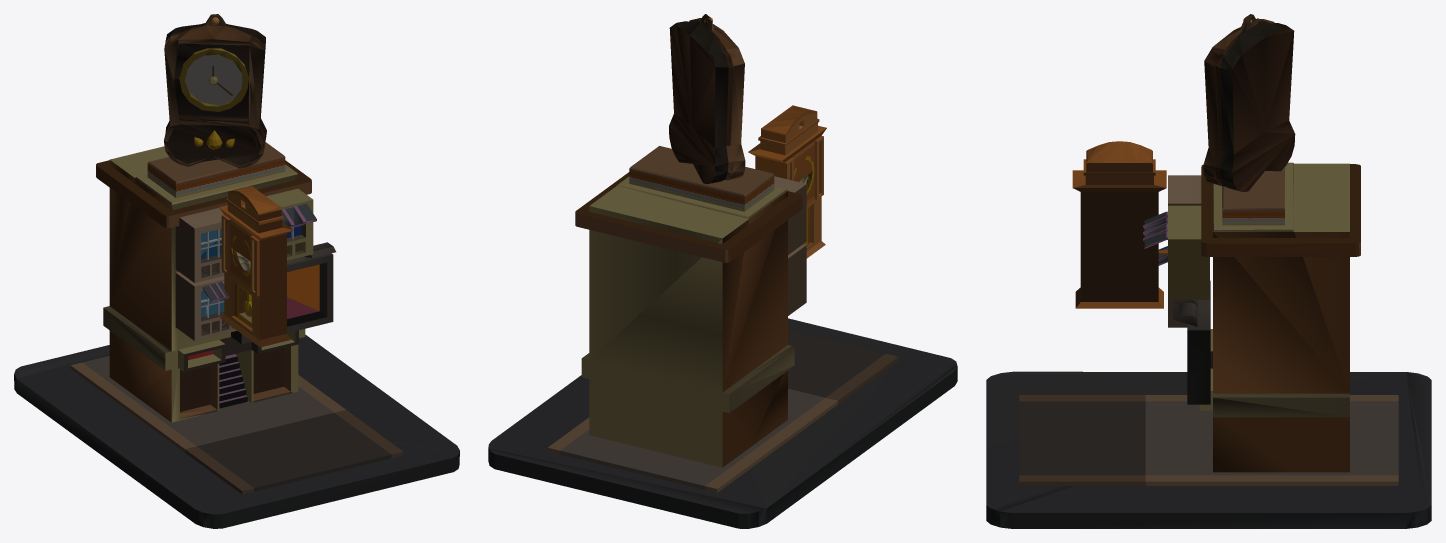
The picture shows the model from 3 angles, left to right: view 1: azimuth 30°, elevation 25°; view 2: azimuth 150°, elevation 25°; view 3: azimuth 270°, elevation 25°; orthographic projection. The views are drawn at different scales.
Visible parts, largest first — view 1: clocksmith; view 2: clocksmith; view 3: clocksmith.
Boxes of the visible parts, x1,y1,x2,y2 form: clocksmith: (14,14,459,528); clocksmith: (488,14,957,528); clocksmith: (986,14,1431,528).
Size of the model in its own units: 2.25 by 3.28 by 3.
1 material, 1 textured.
